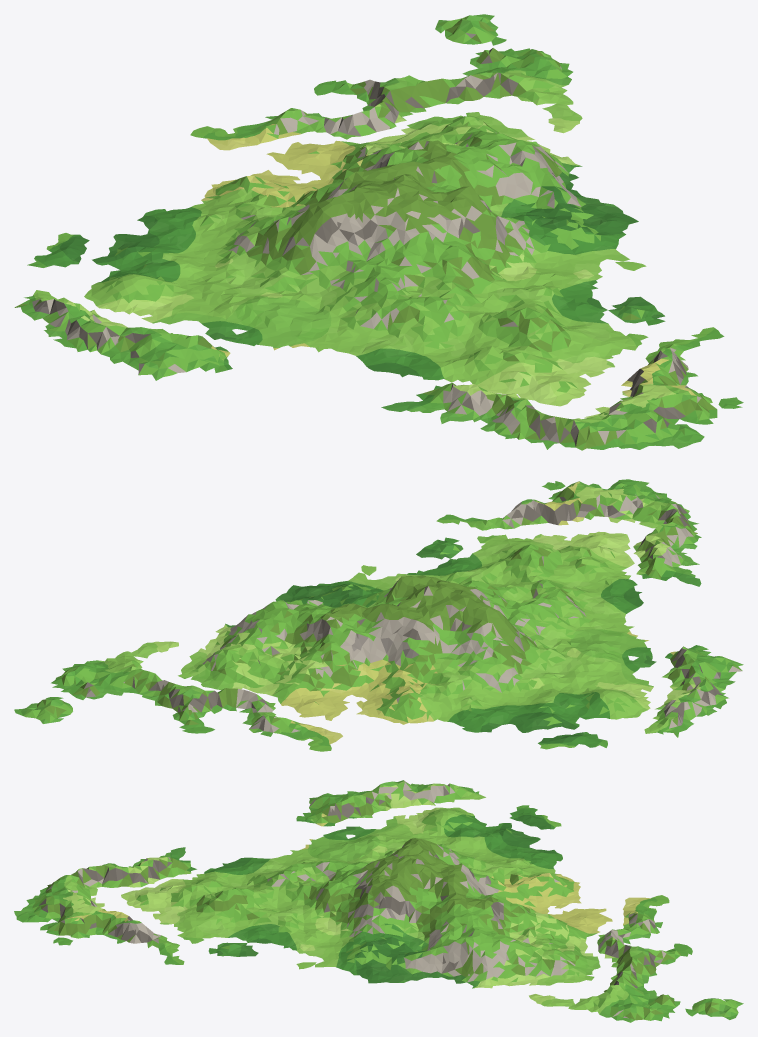
The model's file is Isl-hilly2-Relief.fbx.
3 renders of one model, top to bottom at view 1: azimuth 30°, elevation 25°; view 2: azimuth 150°, elevation 25°; view 3: azimuth 270°, elevation 25°, orthographic. The views are drawn at different scales.
Visible parts, largest first — view 1: Isl-hilly2-Relief-c11, Isl-hilly2-Relief-c22, Isl-hilly2-Relief-c21, Isl-hilly2-Relief-c12, Isl-hilly2-Relief-c10, Isl-hilly2-Relief-c20; view 2: Isl-hilly2-Relief-c22, Isl-hilly2-Relief-c11, Isl-hilly2-Relief-c12, Isl-hilly2-Relief-c21, Isl-hilly2-Relief-c10, Isl-hilly2-Relief-c20; view 3: Isl-hilly2-Relief-c22, Isl-hilly2-Relief-c21, Isl-hilly2-Relief-c11, Isl-hilly2-Relief-c12, Isl-hilly2-Relief-c20, Isl-hilly2-Relief-c10.
Part boxes in pixels (bbox=[...]): Isl-hilly2-Relief-c11: bbox=[48, 175, 618, 439]; Isl-hilly2-Relief-c22: bbox=[239, 14, 597, 211]; Isl-hilly2-Relief-c21: bbox=[404, 175, 724, 400]; Isl-hilly2-Relief-c12: bbox=[14, 126, 402, 334]; Isl-hilly2-Relief-c10: bbox=[519, 398, 672, 450]; Isl-hilly2-Relief-c20: bbox=[630, 385, 743, 448]; Isl-hilly2-Relief-c22: bbox=[14, 586, 427, 739]; Isl-hilly2-Relief-c11: bbox=[429, 500, 743, 712]; Isl-hilly2-Relief-c12: bbox=[298, 586, 713, 751]; Isl-hilly2-Relief-c21: bbox=[275, 489, 606, 607]; Isl-hilly2-Relief-c10: bbox=[607, 484, 698, 531]; Isl-hilly2-Relief-c20: bbox=[542, 479, 648, 505]; Isl-hilly2-Relief-c22: bbox=[415, 859, 743, 1022]; Isl-hilly2-Relief-c21: bbox=[84, 858, 418, 983]; Isl-hilly2-Relief-c11: bbox=[83, 780, 418, 911]; Isl-hilly2-Relief-c12: bbox=[415, 783, 669, 911]; Isl-hilly2-Relief-c20: bbox=[14, 898, 91, 945]; Isl-hilly2-Relief-c10: bbox=[21, 868, 91, 911].
Size of the model in its own units: 90.13 by 9.76 by 116.
